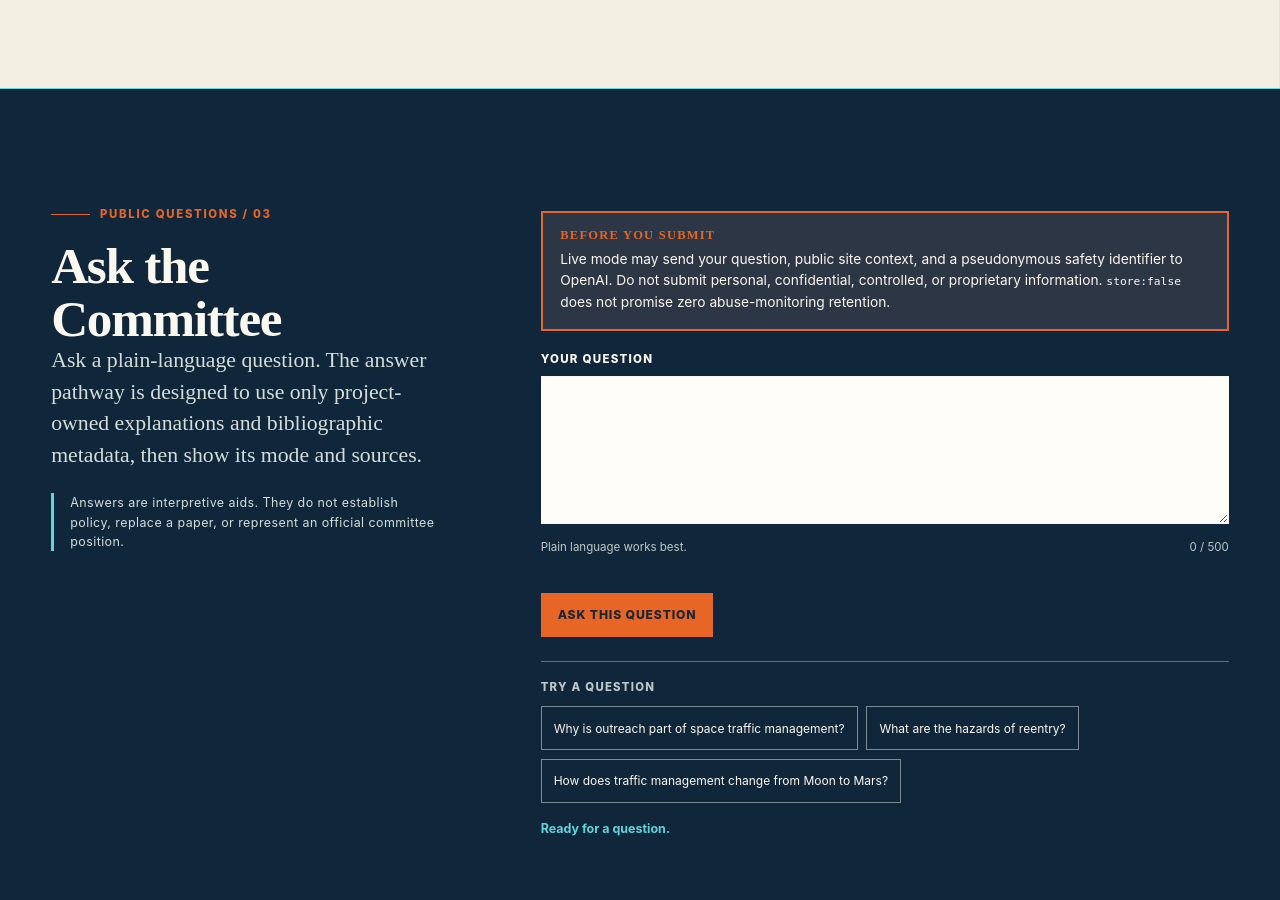
Test: editorial application › gives truthful retry guidance when the current Ask service is unavailable
(page scrolled)
Type "What are the hazards of reentry?" into the text box labelled "Your question" at point(885, 450), box [541,376,1229,524]
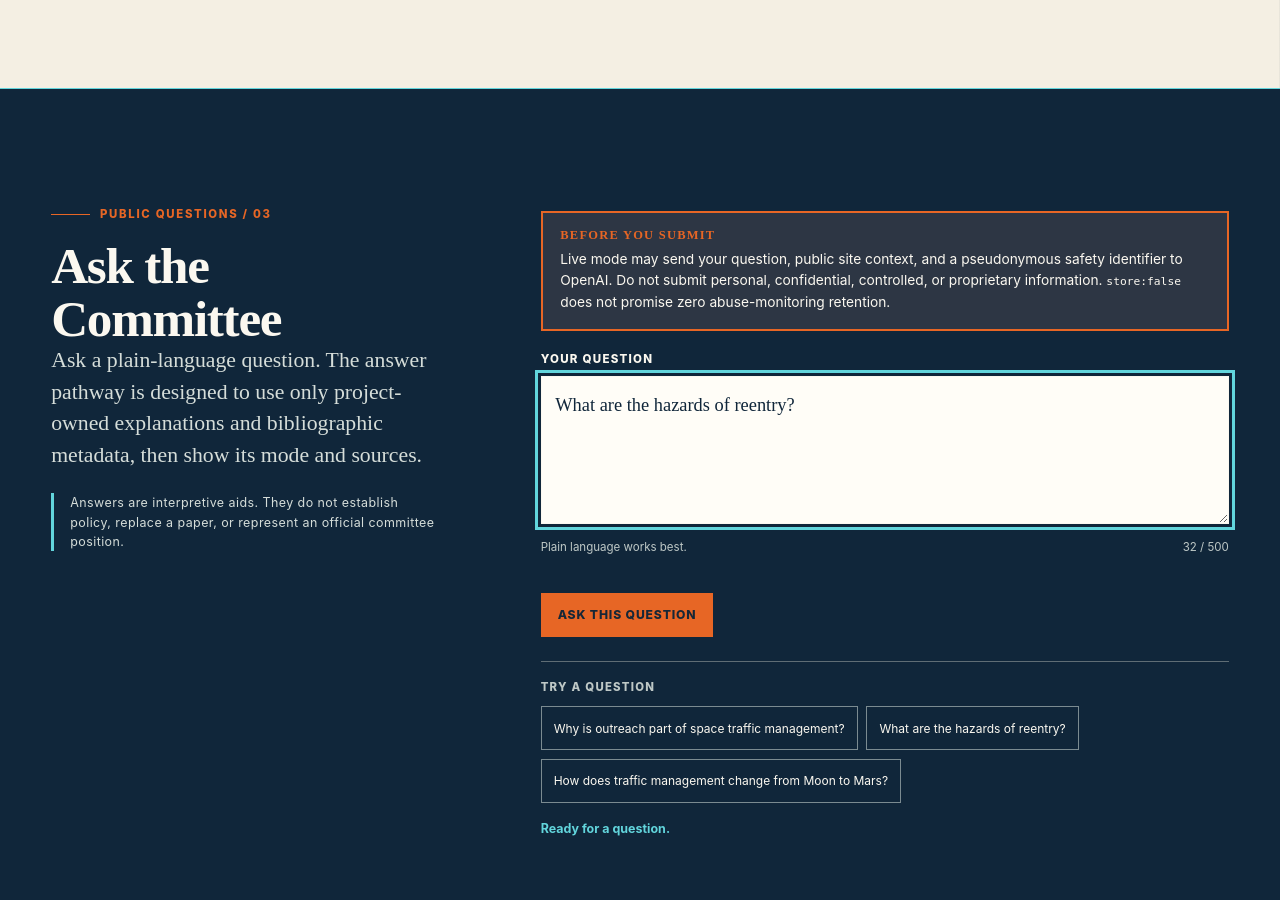
Click the button "Ask this question" at point(627, 615), box [541,593,714,637]
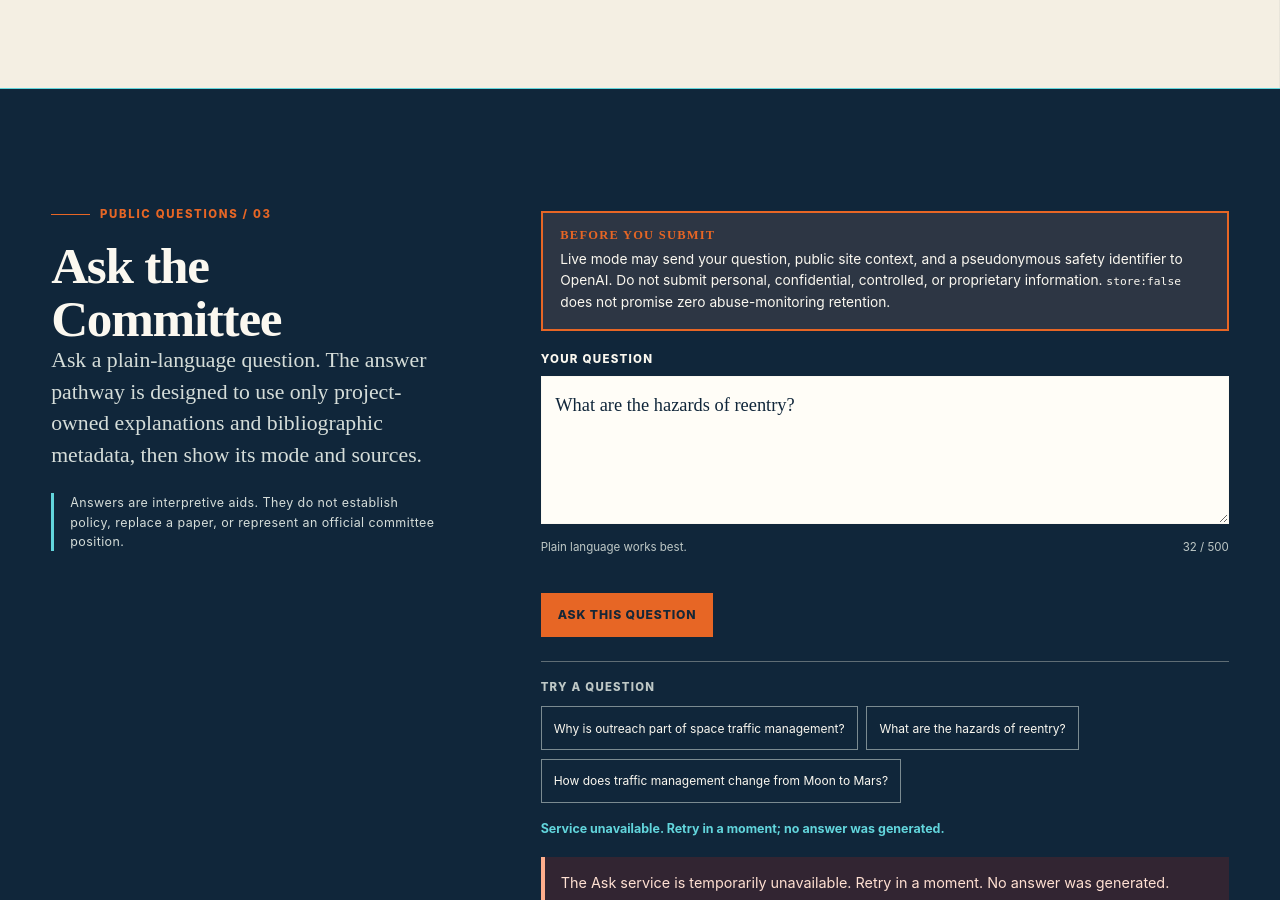
Expected: the text "Ask service is temporarily unavailable" shows "Retry", [561,874,1169,891]
Expected: the text "Ask service is temporarily unavailable" shows "no answer was generated", [561,874,1169,891]
Expected: the message reads "Service unavailable. Retry in a moment; no answer was generated.", [541,821,945,836]
